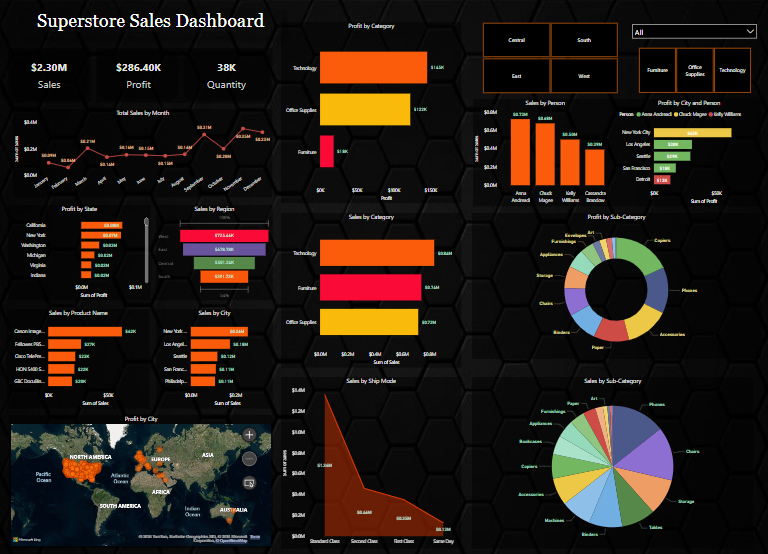

The dashboard page shown, as its layout file describes it:
{"tool":"powerbi","page":{"name":"Page 1","canvas":[1800,1300],"ordinal":0},"visuals":[{"type":"textbox","box":[46,20,618,68],"z":0},{"type":"cardVisual","title":"TSales","fields":{"Data":["Sum(Orders.Sales)"]},"box":[22.8,114.2,192.6,128.4],"z":1000},{"type":"cardVisual","title":"TSales","fields":{"Data":["Sum(Orders.Profit)"]},"box":[228.3,114.2,198.4,128.4],"z":2000},{"type":"cardVisual","title":"TSales","fields":{"Data":["Sum(Orders.Quantity)"]},"box":[427.3,114.4,212.7,128.7],"z":3000},{"type":"lineChart","title":"Total Sales by Month","fields":{"Category":["Orders.Order Date.Variation.Date Hierarchy.Month"],"Y":["Sum(Orders.Sales)"]},"box":[35.8,255.6,604.2,205.6],"z":4000},{"type":"clusteredBarChart","fields":{"Category":["Orders.Category"],"Y":["Sum(Orders.Profit)"]},"box":[660,53.3,420,421.7],"z":5000},{"type":"donutChart","title":"Profit by Sub-Category","fields":{"Category":["Orders.Sub-Category"],"Y":["Sum(Orders.Profit)"]},"box":[1105,497.5,672.5,340],"z":6000},{"type":"clusteredBarChart","title":"Profit by State","fields":{"Category":["Orders.State"],"Y":["Sum(Orders.Profit)"]},"box":[24,480,332,222],"z":7000},{"type":"funnel","title":"Sales by Region","fields":{"Category":["Orders.Region"],"Y":["Sum(Orders.Sales)"]},"box":[368,480,272,222],"z":8000},{"type":"clusteredBarChart","title":"Sales by Category","fields":{"Category":["Orders.Category"],"Y":["Sum(Orders.Sales)"]},"box":[660,497.5,420,360],"z":9000},{"type":"pieChart","title":"Sales by Sub-Category","fields":{"Category":["Orders.Sub-Category"],"Y":["Sum(Orders.Sales)"]},"box":[1105,880,655,400],"z":10000},{"type":"clusteredBarChart","title":"Sales by Product Name","fields":{"Category":["Orders.Product Name"],"Y":["Sum(Orders.Sales)"]},"box":[22,722,332,232],"z":11000},{"type":"clusteredBarChart","title":"Sales by City","fields":{"Category":["Orders.City"],"Y":["Sum(Orders.Sales)"]},"box":[368,722,272,232],"z":12000},{"type":"map","title":"Profit by City","fields":{"Category":["Orders.City"],"Size":["Sum(Orders.Profit)"]},"box":[25,970,615,310],"z":13000},{"type":"stackedAreaChart","title":"Sales by Ship Mode","fields":{"Category":["Orders.Ship Mode"],"Y":["Sum(Orders.Sales)"]},"box":[660,880,420,400],"z":14000},{"type":"slicer","fields":{"Values":["Orders.Region"]},"box":[1105,48.3,363.3,176.7],"z":14001},{"type":"slicer","fields":{"Values":["Orders.Ship Date.Variation.Date Hierarchy.Year","Orders.Ship Date.Variation.Date Hierarchy.Month"]},"box":[1468.3,48.3,310,58.3],"z":14002},{"type":"slicer","fields":{"Values":["Orders.Category"]},"box":[1468.3,106.7,310,118.3],"z":14003},{"type":"columnChart","title":"Sales by Person","fields":{"Category":["People.Person"],"Y":["Sum(Orders.Sales)"]},"box":[1106,234,336,250],"z":14004},{"type":"barChart","title":"Profit by City and Person","fields":{"Category":["Orders.City"],"Series":["People.Person"],"Y":["Sum(Orders.Profit)"]},"box":[1442,234,336,250],"z":14005}]}

Visuals, with their boxes in screenshot pixels (x1, y1, x2, y2), scaled from the page's 1800x1300 canvas onto the 768x554 screenshot:
textbox: bbox(20, 9, 283, 38)
"TSales" cardVisual: bbox(10, 49, 92, 103)
"TSales" cardVisual: bbox(97, 49, 182, 103)
"TSales" cardVisual: bbox(182, 49, 273, 104)
"Total Sales by Month" lineChart: bbox(15, 109, 273, 197)
clusteredBarChart - Orders.Category x Sum(Orders.Profit): bbox(282, 23, 461, 202)
"Profit by Sub-Category" donutChart: bbox(471, 212, 758, 357)
"Profit by State" clusteredBarChart: bbox(10, 205, 152, 299)
"Sales by Region" funnel: bbox(157, 205, 273, 299)
"Sales by Category" clusteredBarChart: bbox(282, 212, 461, 365)
"Sales by Sub-Category" pieChart: bbox(471, 375, 751, 545)
"Sales by Product Name" clusteredBarChart: bbox(9, 308, 151, 407)
"Sales by City" clusteredBarChart: bbox(157, 308, 273, 407)
"Profit by City" map: bbox(11, 413, 273, 545)
"Sales by Ship Mode" stackedAreaChart: bbox(282, 375, 461, 545)
slicer - Orders.Region: bbox(471, 21, 626, 96)
slicer - Orders.Ship Date.Variation.Date Hierarchy.Year x Orders.Ship Date.Variation.Date Hierarchy.Month: bbox(626, 21, 759, 45)
slicer - Orders.Category: bbox(626, 45, 759, 96)
"Sales by Person" columnChart: bbox(472, 100, 615, 206)
"Profit by City and Person" barChart: bbox(615, 100, 759, 206)
